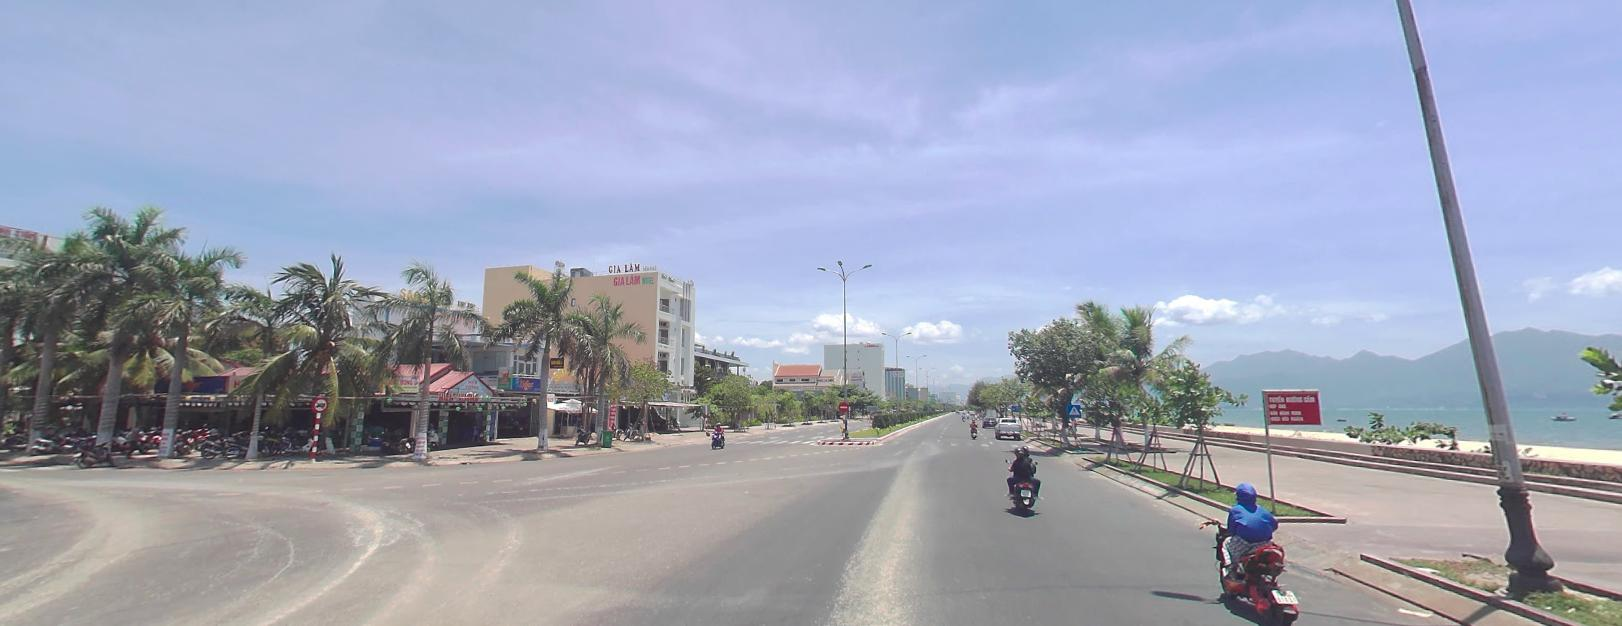Cam con lai: (311, 394, 326, 410)
Cam nguoc chieu: (837, 403, 849, 413)
